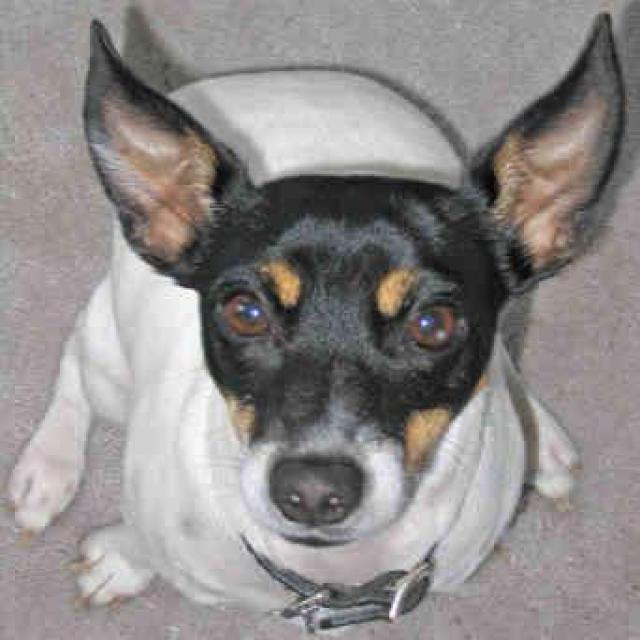toy_terrier: (6, 12, 628, 633)
